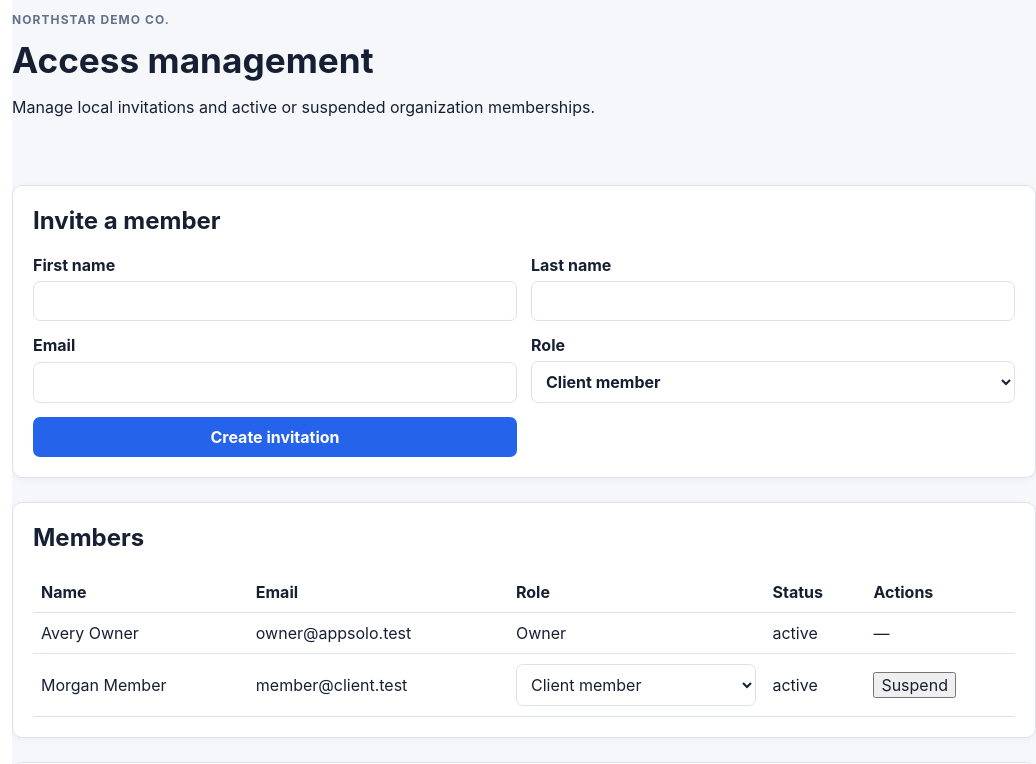
Test: access management › exposes allowed suspension and refreshes stale conflict state through the API boundary
Check: the text "Morgan Member" is shown, box [33,653,248,716]
Click the button "Suspend": (915,685) [873,672,956,698]
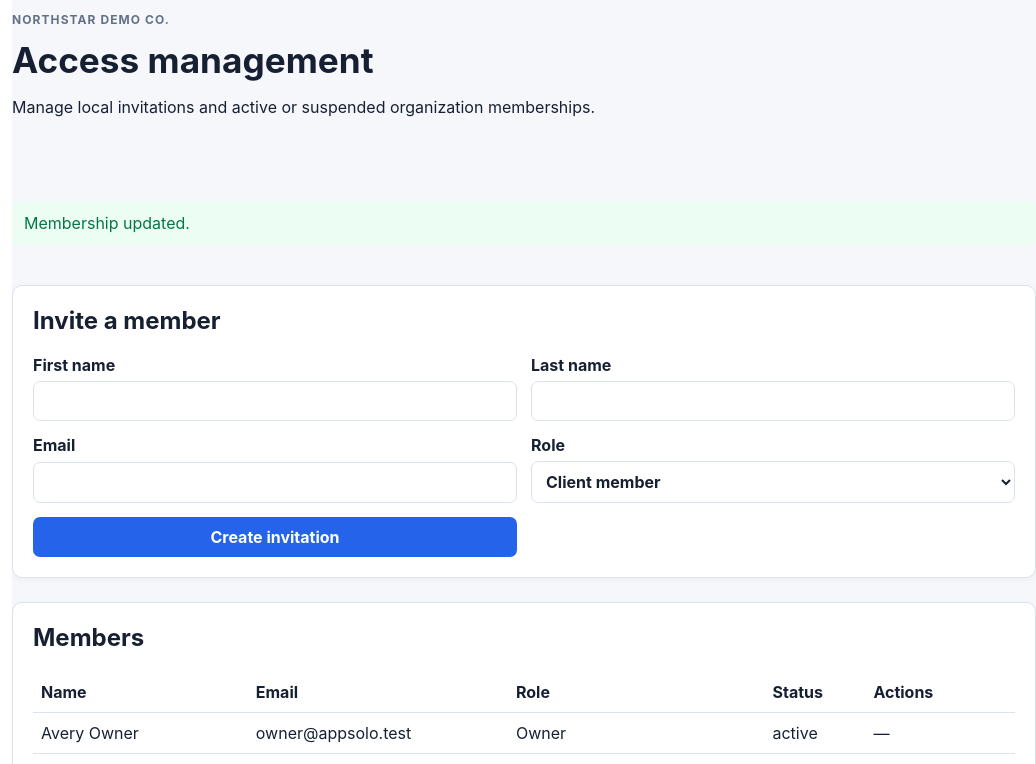
Check: the text "Membership updated." is shown, box [12,201,1035,245]
